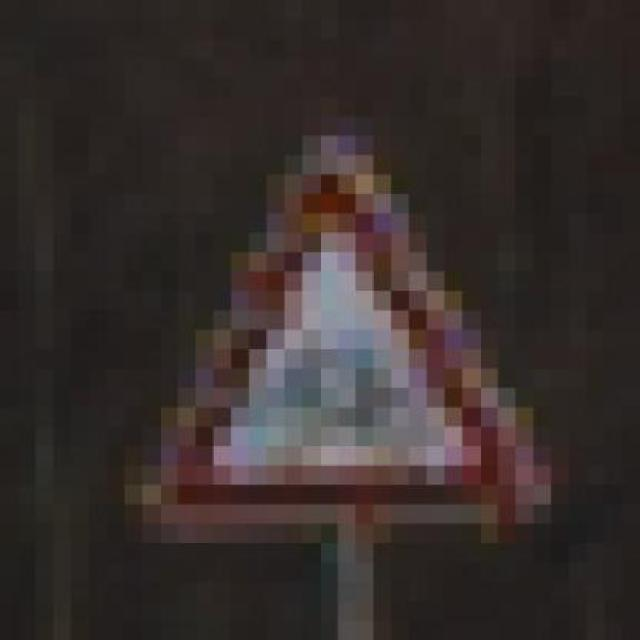CYCLE ROUTE AHEAD WARNING: (107, 97, 551, 563)
